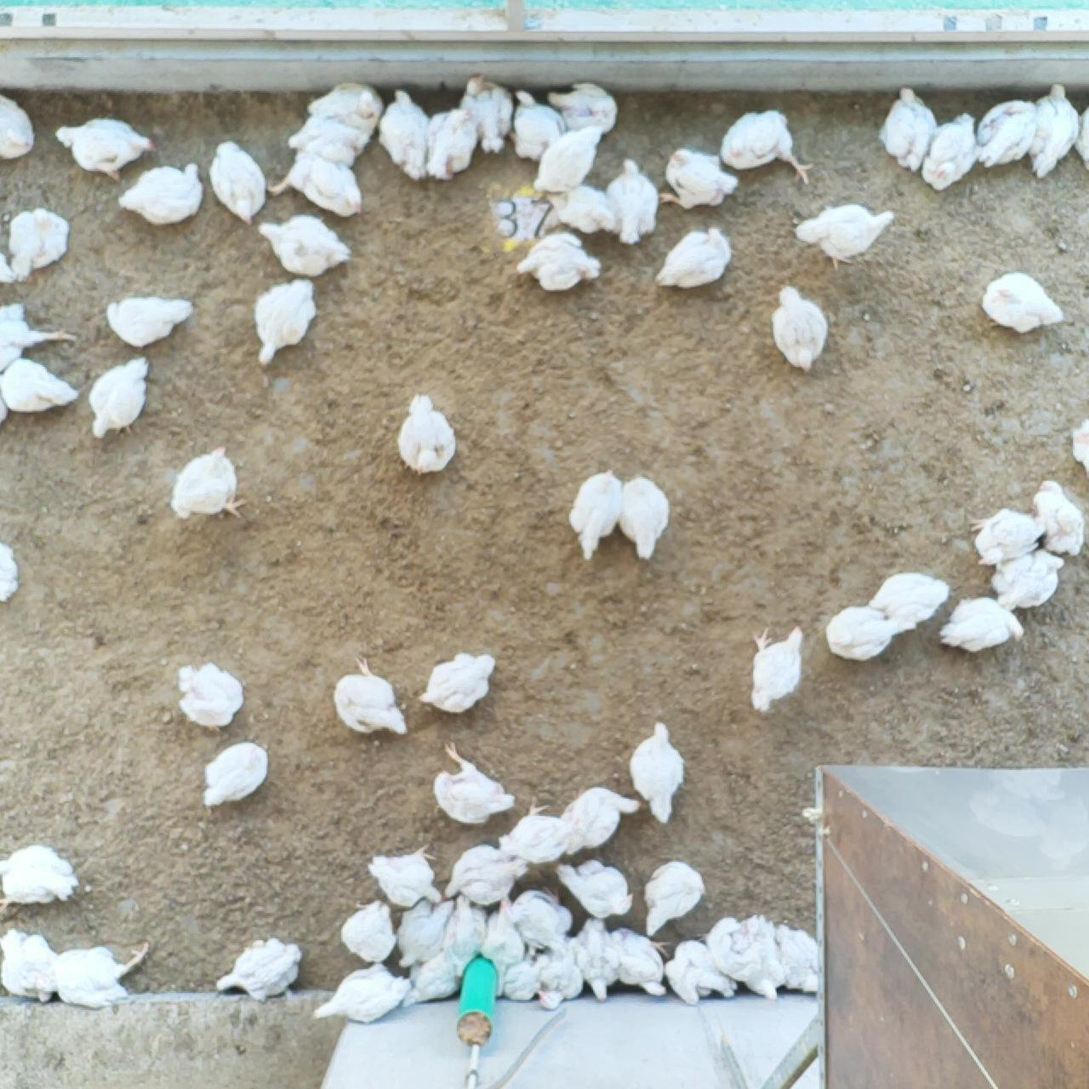chicken: (21, 944, 158, 1008), (792, 198, 897, 269), (719, 106, 812, 186), (431, 736, 516, 822), (53, 113, 156, 181), (312, 961, 416, 1028), (114, 156, 206, 230), (334, 653, 411, 741), (213, 935, 311, 1004), (706, 914, 783, 1001), (256, 213, 358, 278), (630, 716, 690, 826), (266, 150, 363, 218), (168, 444, 247, 523), (248, 276, 318, 365), (554, 788, 644, 857), (492, 796, 577, 868), (0, 297, 77, 375), (87, 350, 153, 441), (744, 625, 810, 716), (532, 121, 607, 200), (568, 468, 629, 564), (982, 268, 1065, 338), (373, 84, 433, 180), (640, 858, 710, 940), (602, 155, 664, 247), (822, 603, 917, 663), (416, 649, 497, 719), (651, 225, 733, 294), (515, 230, 606, 292), (657, 146, 741, 213), (205, 136, 266, 228), (662, 937, 742, 1007), (938, 593, 1027, 655), (617, 469, 673, 566), (510, 84, 571, 173), (442, 845, 529, 907), (771, 282, 829, 375), (101, 293, 197, 349), (0, 842, 79, 910), (879, 84, 941, 170), (394, 389, 456, 475), (1025, 81, 1079, 179), (4, 204, 71, 282), (865, 569, 953, 628), (286, 112, 375, 170), (198, 741, 269, 813), (0, 355, 82, 417), (491, 889, 569, 954), (552, 856, 632, 919), (974, 96, 1041, 171), (565, 919, 625, 1002), (174, 660, 245, 730), (460, 71, 517, 158), (604, 922, 671, 996), (1030, 474, 1088, 559), (364, 848, 442, 910), (543, 79, 624, 138), (305, 76, 388, 133), (922, 111, 980, 192), (480, 898, 528, 995), (765, 921, 827, 996), (540, 183, 626, 237), (391, 895, 451, 972), (967, 505, 1041, 567), (0, 929, 59, 1006), (993, 553, 1068, 612), (396, 948, 467, 1009), (439, 894, 489, 978), (424, 106, 480, 180), (339, 899, 396, 968), (533, 943, 584, 1011), (500, 951, 553, 1006), (0, 88, 34, 166), (1068, 412, 1089, 489), (0, 539, 21, 614), (1071, 102, 1089, 172), (0, 239, 20, 295)
